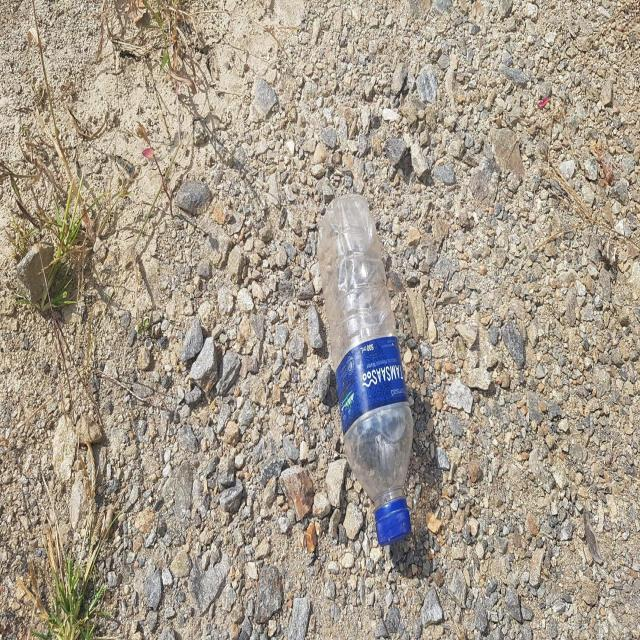plastic: (318, 194, 414, 545)
